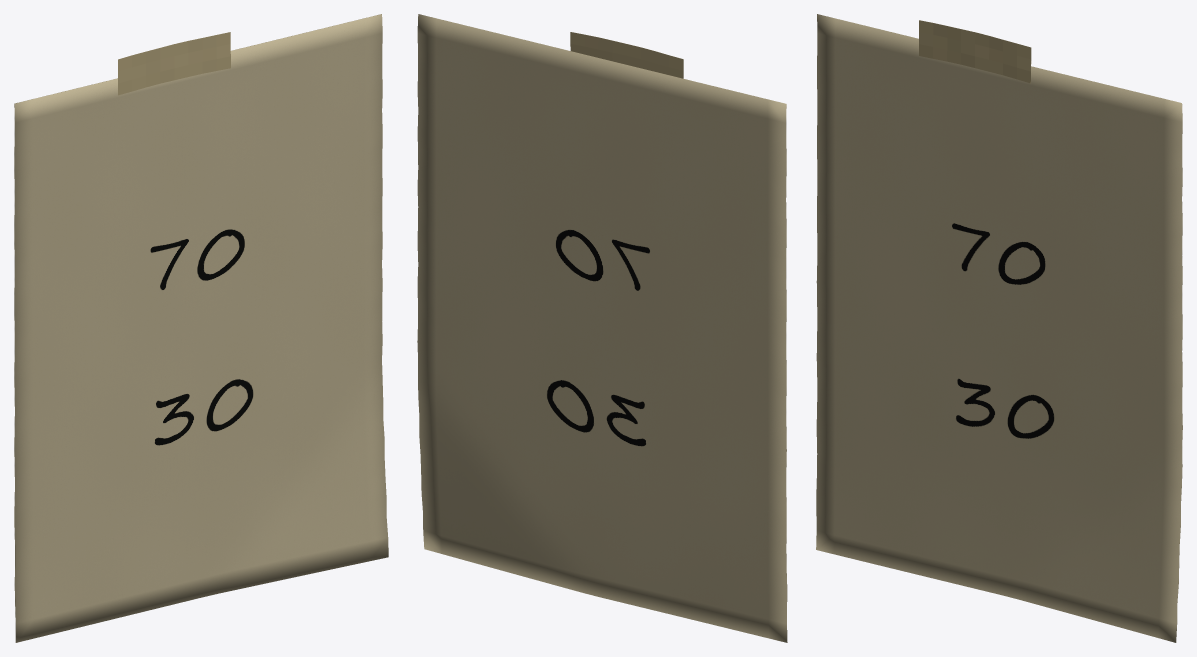
The model's file is POWER_HintPaper.fbx.
The picture shows the model from 3 angles, left to right: view 1: azimuth 30°, elevation 25°; view 2: azimuth 150°, elevation 25°; view 3: azimuth 330°, elevation 25°; orthographic projection.
Parts seen in each view (by area): view 1: POWER_HintPaper; view 2: POWER_HintPaper; view 3: POWER_HintPaper.
Part boxes in pixels (box(x1,y1,x2,y2)): POWER_HintPaper: box(14, 14, 388, 642); POWER_HintPaper: box(417, 14, 787, 642); POWER_HintPaper: box(816, 14, 1182, 642).
Bounding box in the file's own units: 0.3006 × 0.4362 × 0.00966.
